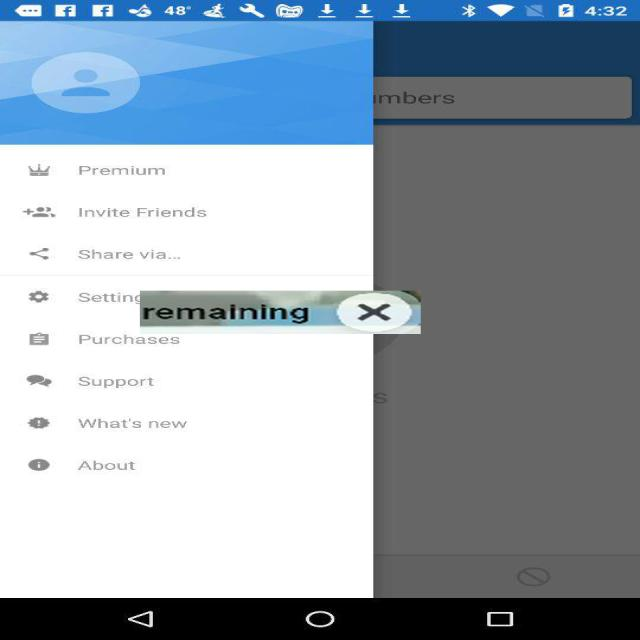misdirection: (140, 291, 421, 334)
